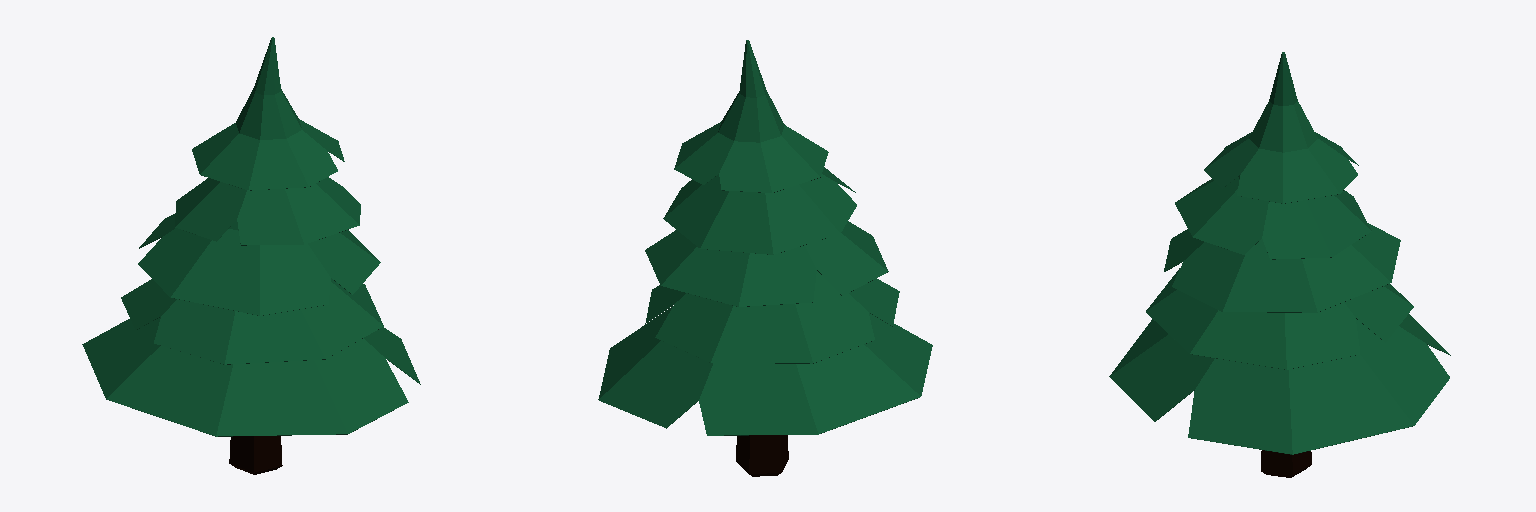
Rendered from tree_lvl_0.obj.
3 views of the same model, side by side, from view 1: azimuth 30°, elevation 25°; view 2: azimuth 150°, elevation 25°; view 3: azimuth 270°, elevation 25° (orthographic).
Visible parts, largest first — view 1: Tree4_1_Cylinder.034; view 2: Tree4_1_Cylinder.034; view 3: Tree4_1_Cylinder.034.
Part boxes in pixels (x1,y1,x2,y2): Tree4_1_Cylinder.034: (82,37,420,474); Tree4_1_Cylinder.034: (598,40,932,476); Tree4_1_Cylinder.034: (1109,52,1450,477).
Bounding box in the file's own units: 6.72 × 8.99 × 6.55.